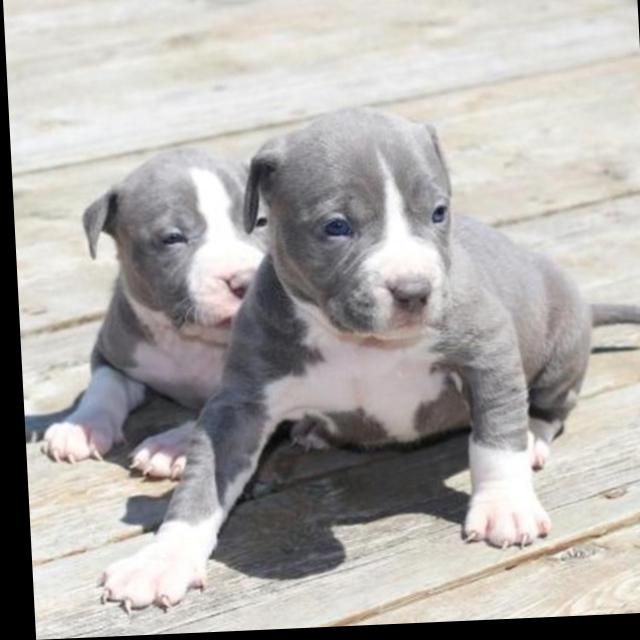am_pit_bull_terrier: (71, 99, 640, 617), (23, 142, 281, 488)
